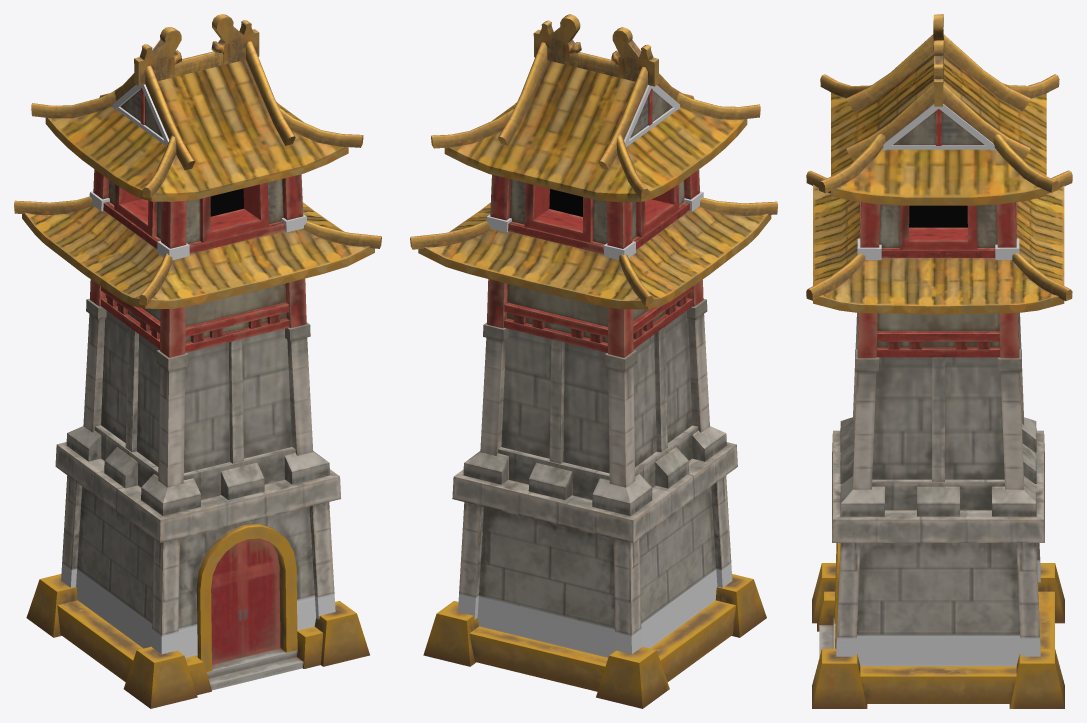
File: 70-guardtower-guard_tower_c_age4.glb
3 views of the same model, side by side, from view 1: azimuth 30°, elevation 25°; view 2: azimuth 150°, elevation 25°; view 3: azimuth 270°, elevation 25° (orthographic).
Size of the model in its own units: 3.36 by 8.09 by 3.12.
1 material, 1 textured.
